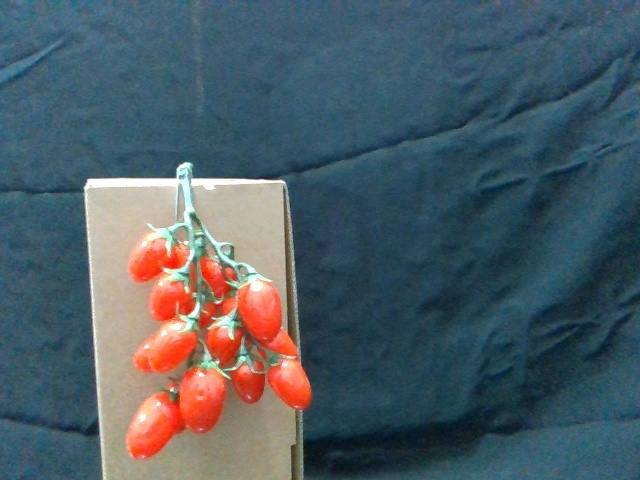tomato: (127, 388, 179, 460), (234, 274, 283, 343), (182, 363, 225, 435), (127, 226, 178, 283), (264, 354, 312, 413), (151, 267, 198, 322), (150, 319, 196, 370), (206, 312, 245, 365), (234, 353, 264, 404)
